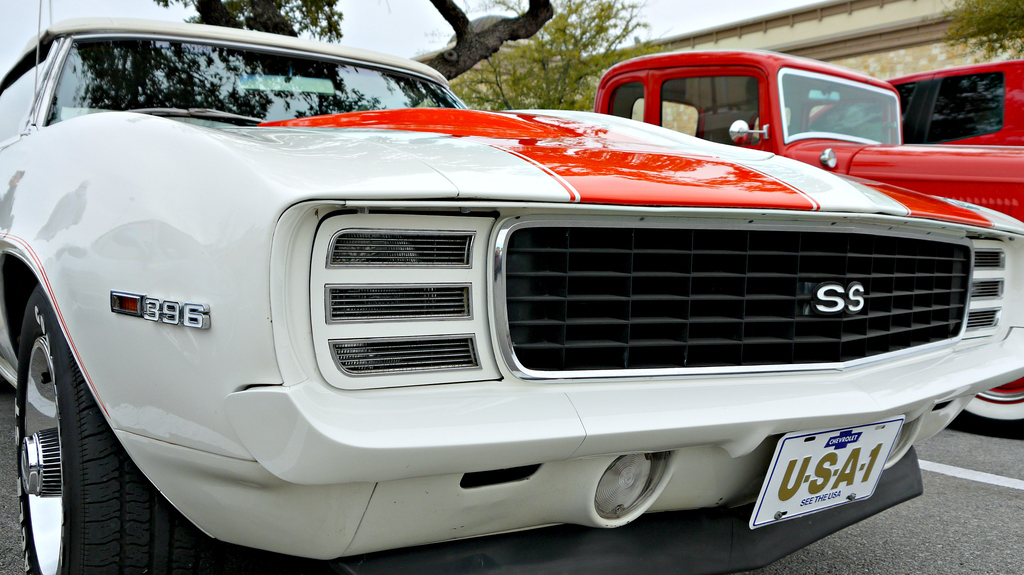Car: (0, 78, 995, 555), (595, 46, 1023, 438), (885, 61, 1023, 147)
